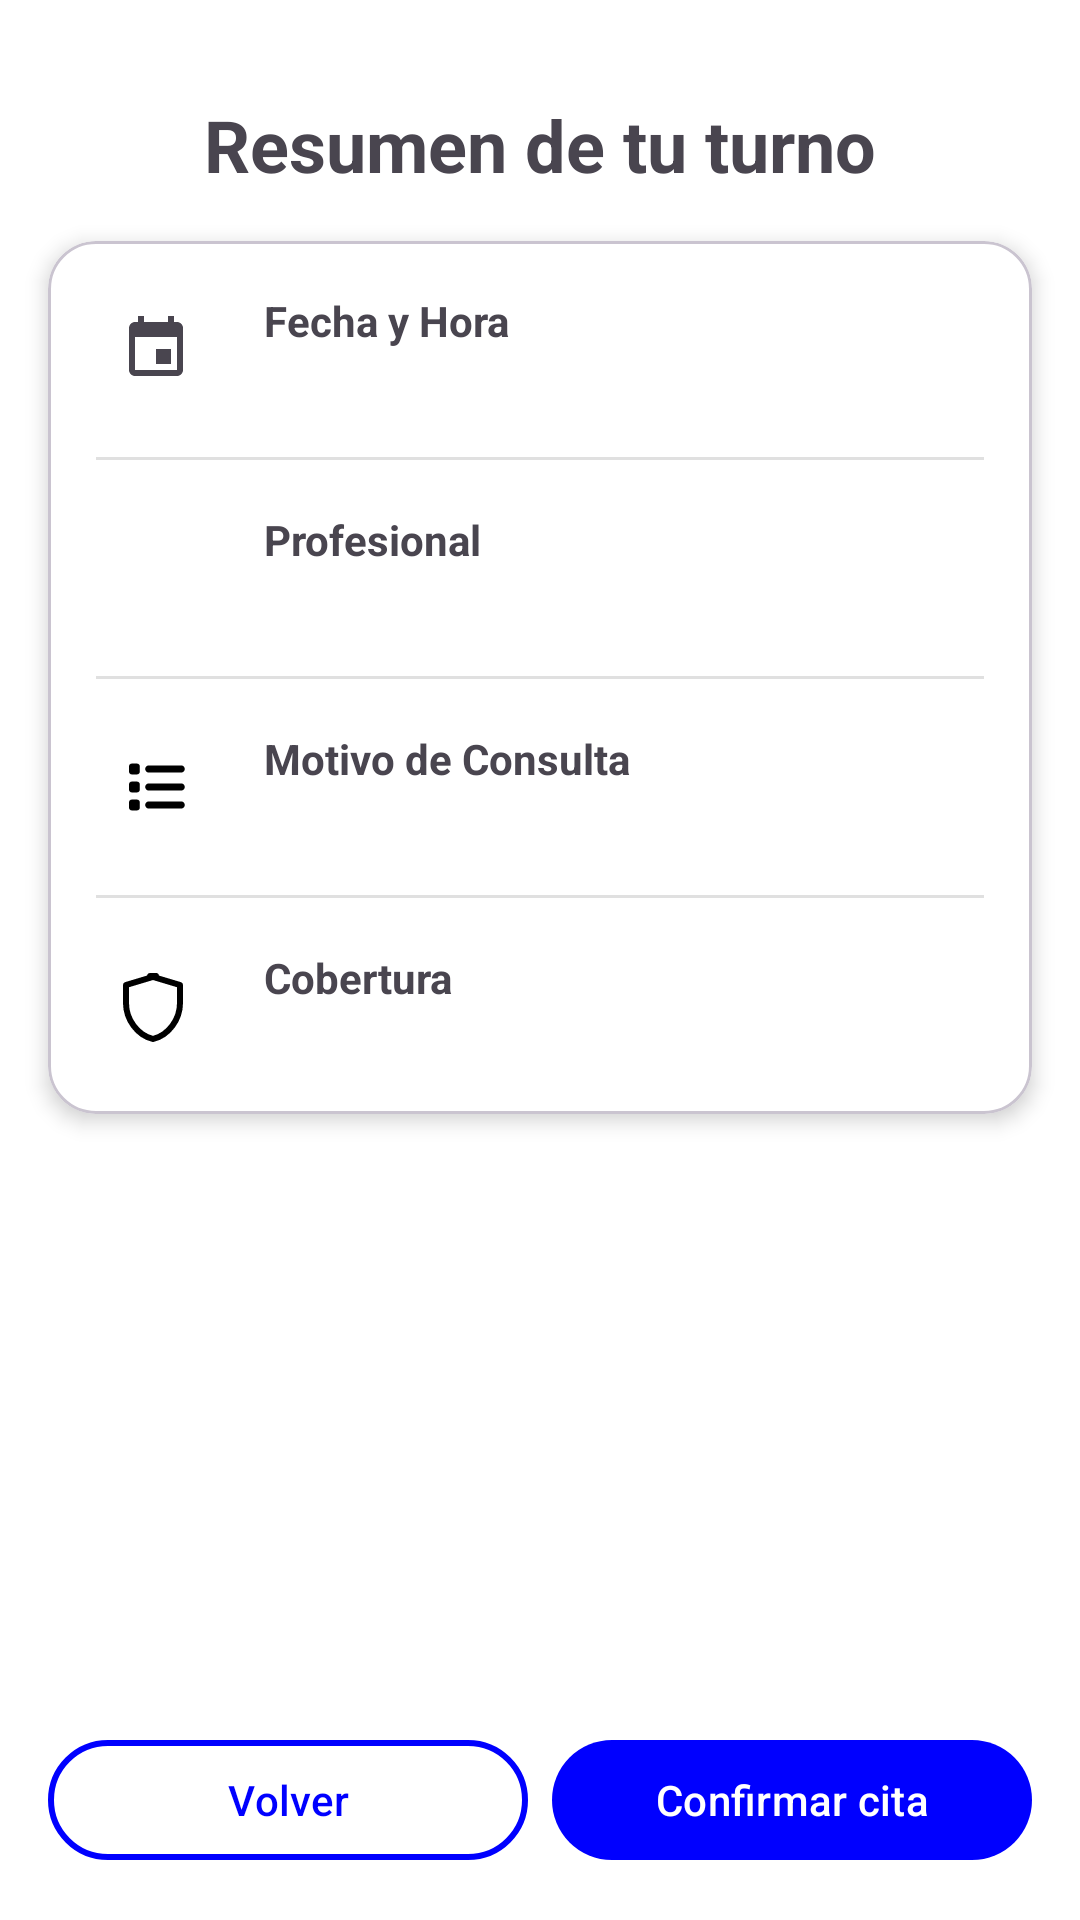

Screen size 1080 x 1920. Icon name, then its box in pixels as (x1, y1, x2, y2):
calendar: (129, 316, 183, 376)
list: (129, 763, 185, 811)
shield: (123, 973, 183, 1042)
